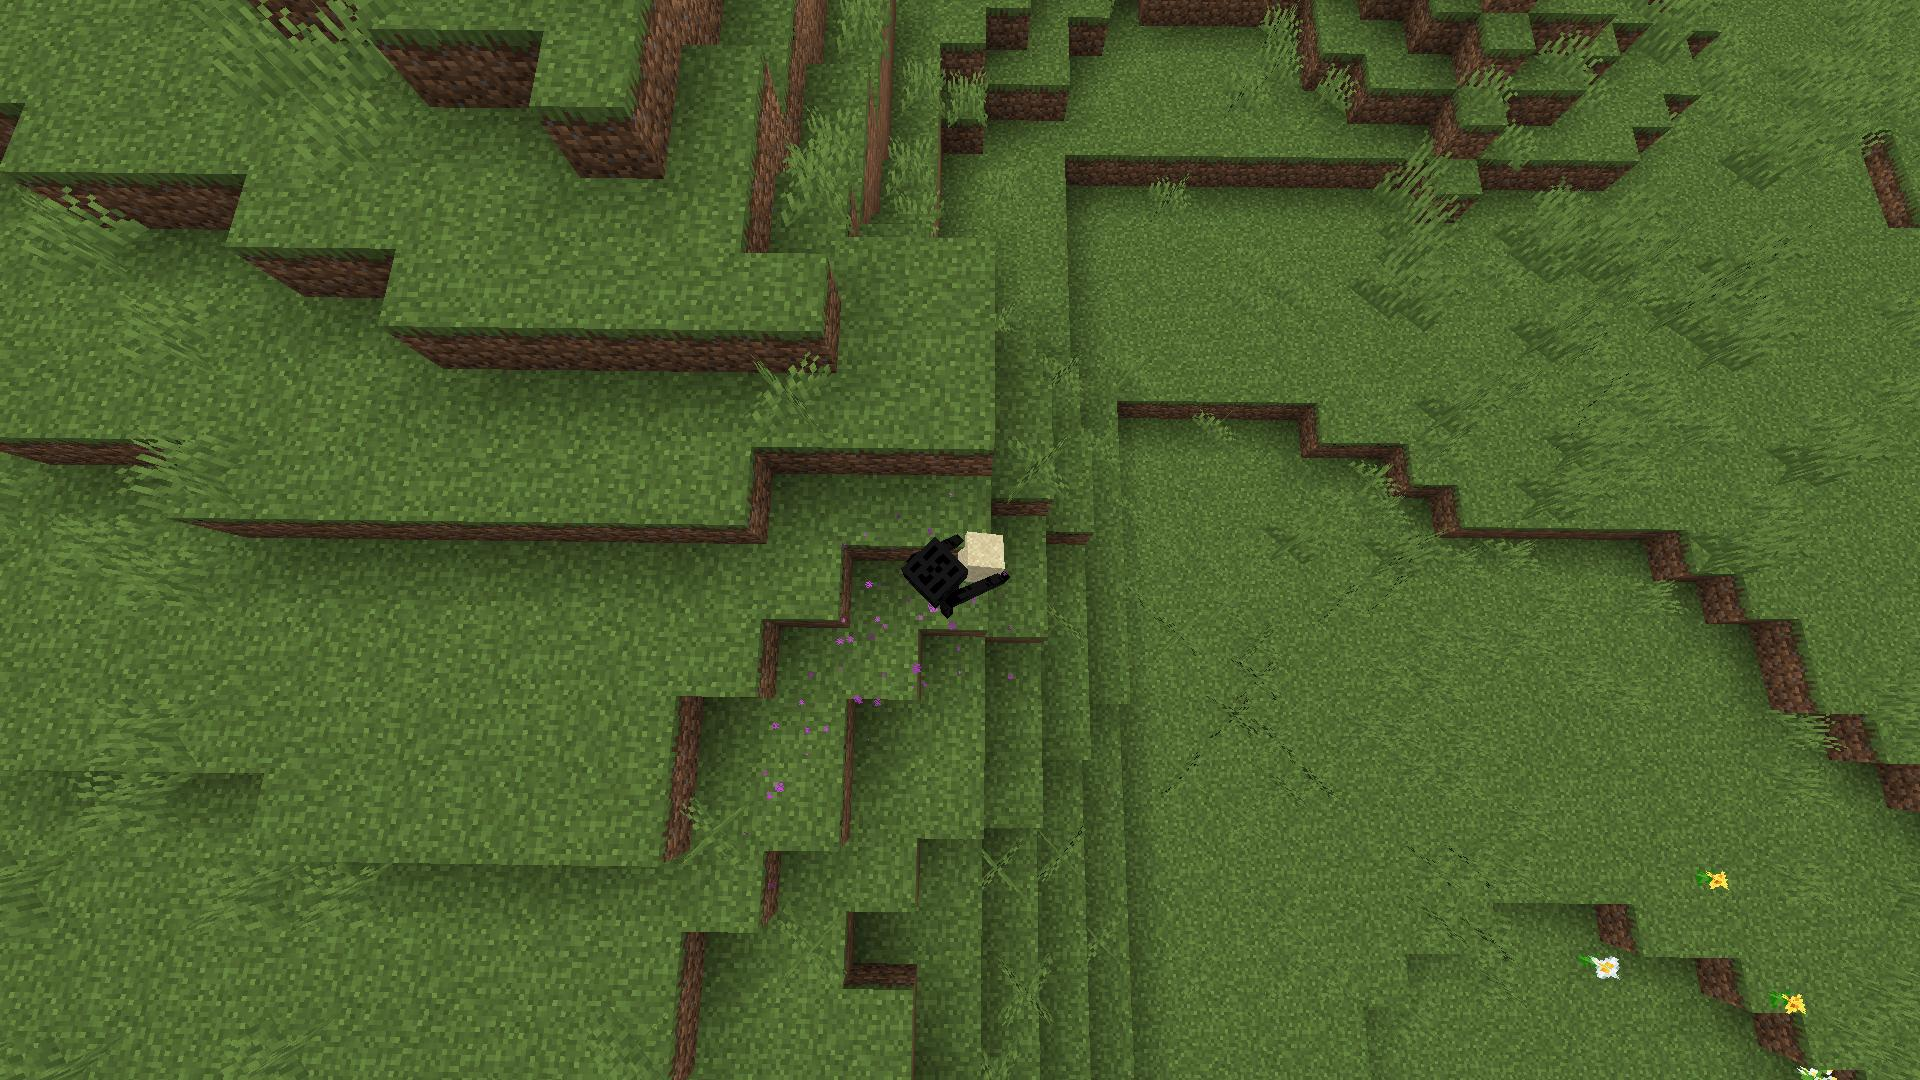enderman: (895, 518, 1013, 640)
